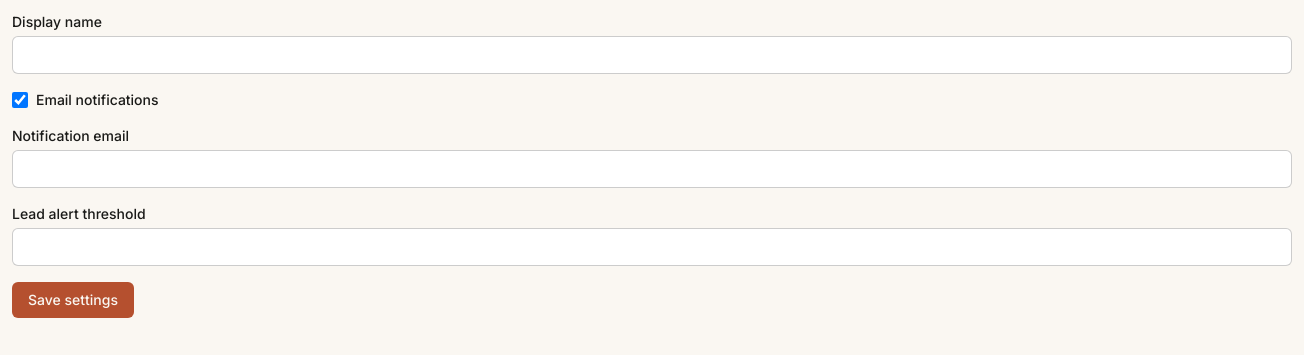
SettingsForm › rejects a threshold outside 0-100
The image size is (1304, 355).
Type "Philip" into the field labelled "Display name" at (652, 55), box x1=12 y1=36 x2=1292 y2=74
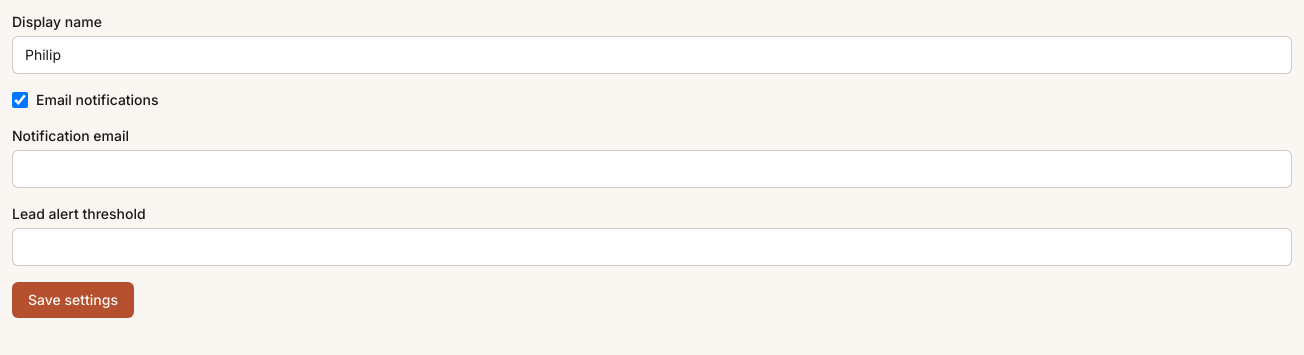
Type "philip@example.com" into the field labelled "Notification email" at (652, 169), box x1=12 y1=150 x2=1292 y2=188
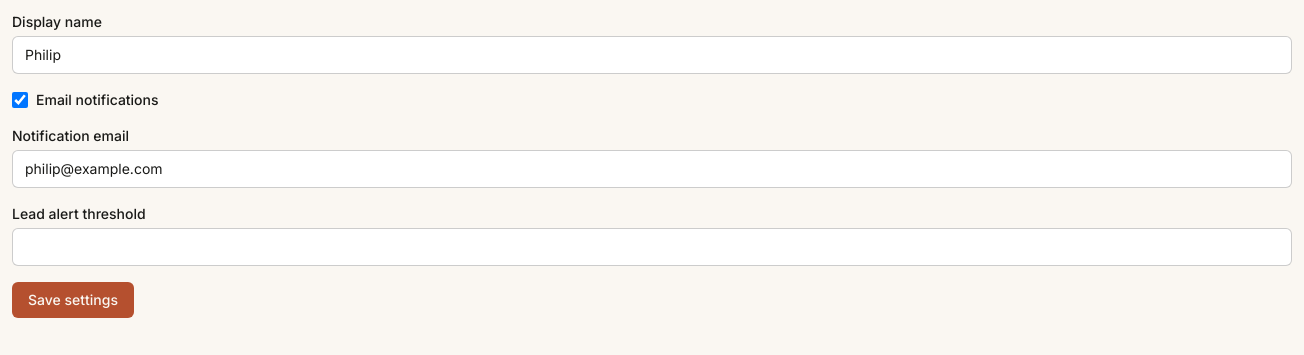
Type "50" into the number field labelled "Lead alert threshold" at (652, 247), box x1=12 y1=228 x2=1292 y2=266
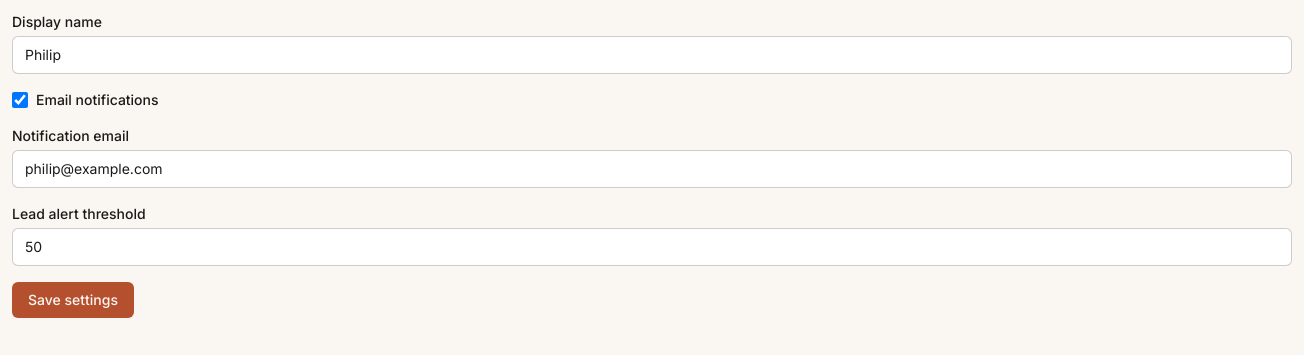
Replace the text in the number field labelled "Lead alert threshold" with "150" at (652, 247), box x1=12 y1=228 x2=1292 y2=266
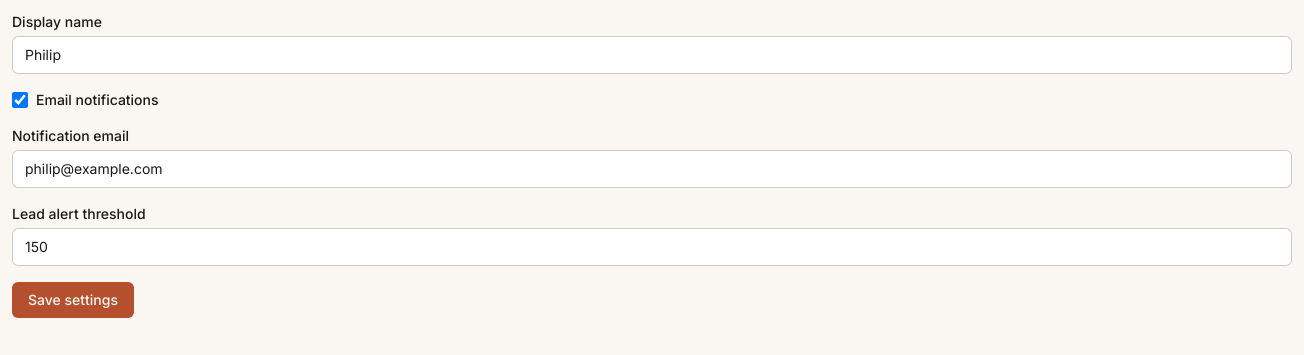
Click the button "Save settings" at (73, 300), box x1=12 y1=282 x2=134 y2=318
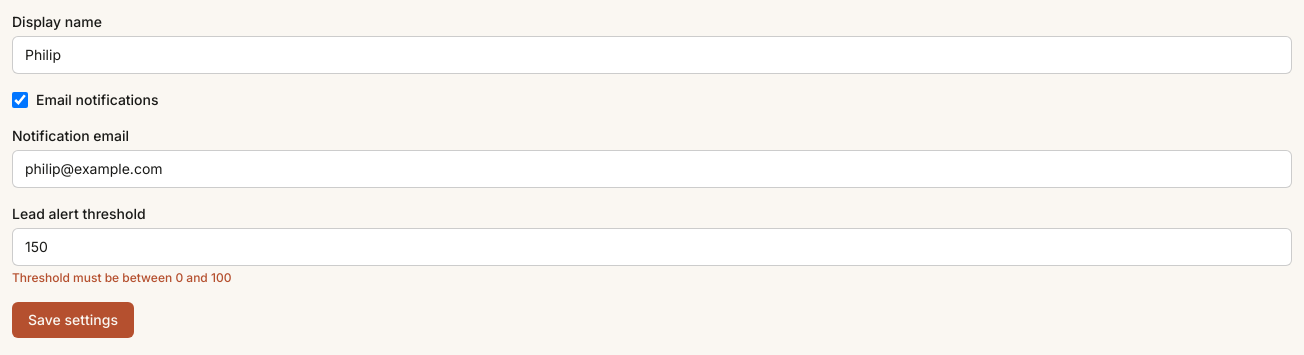
Result: the text "Threshold must be between 0 and 100" is shown at x1=12 y1=270 x2=232 y2=285
